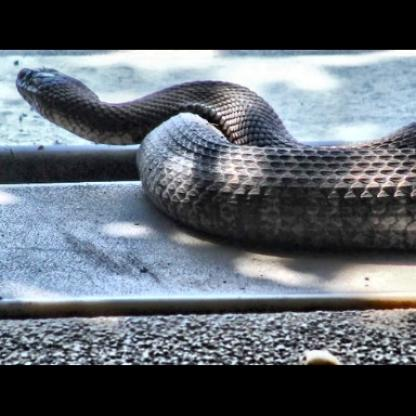Snake: (8, 71, 412, 276)
